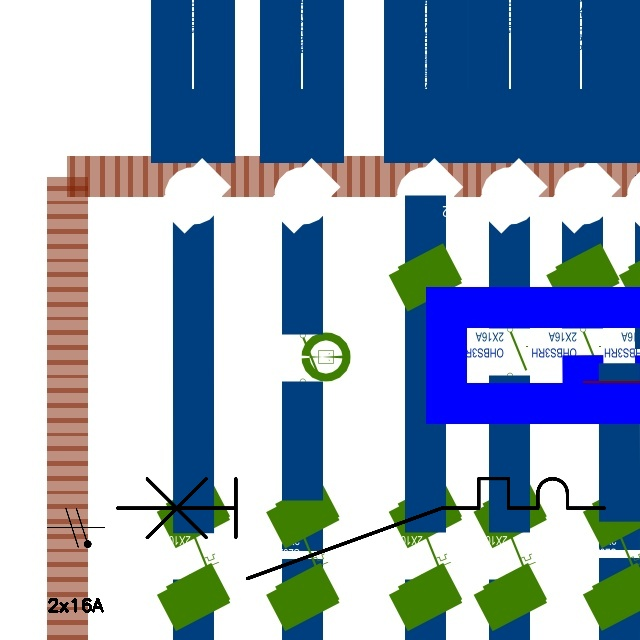interruptor_termomagnetico: (104, 466, 616, 591)
